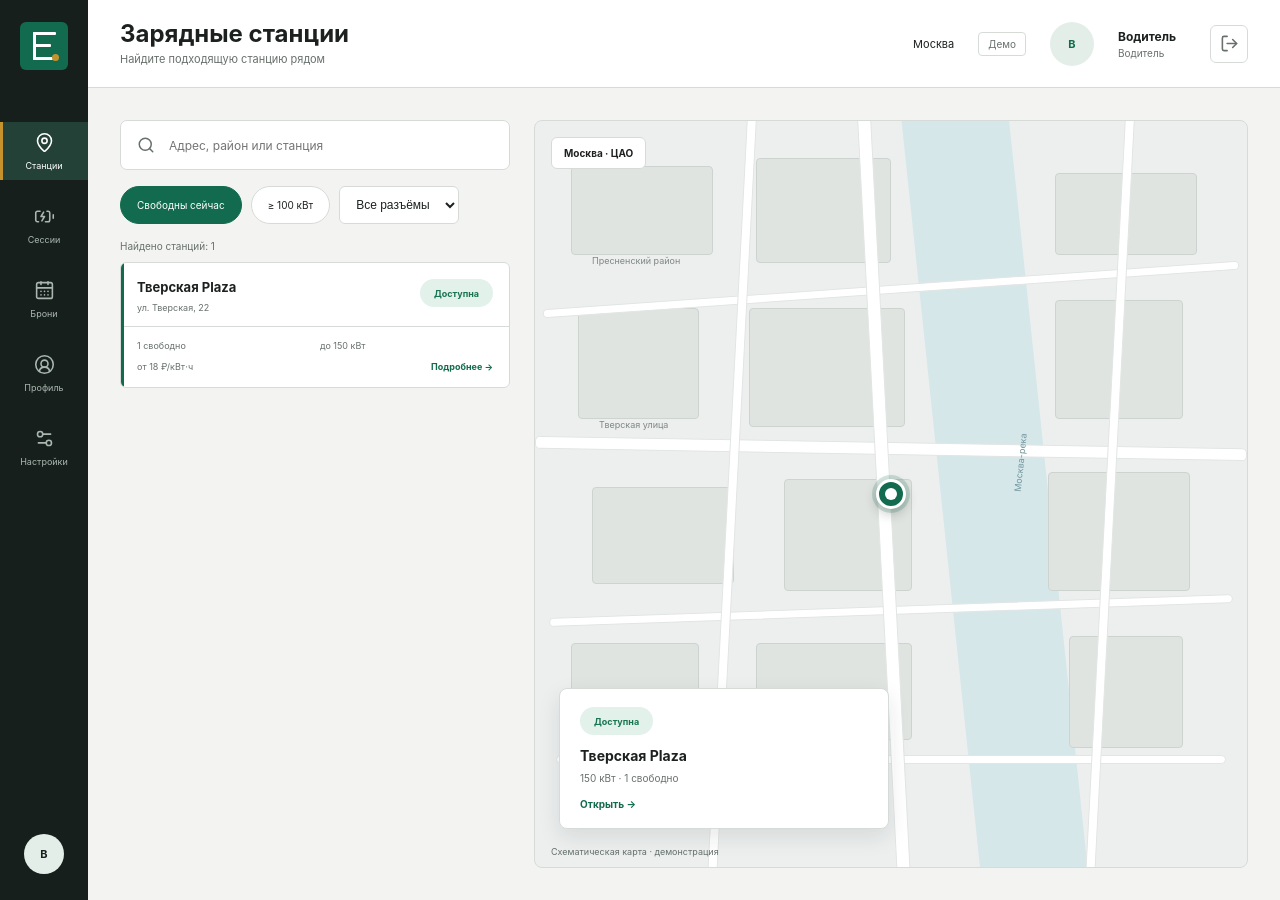
Test: фильтр свободных CCS2 не показывает станцию, где свободен только Type 2
Select "CCS2" in the dropdown named "Тип разъёма" at (399, 205), box [339,186,459,224]
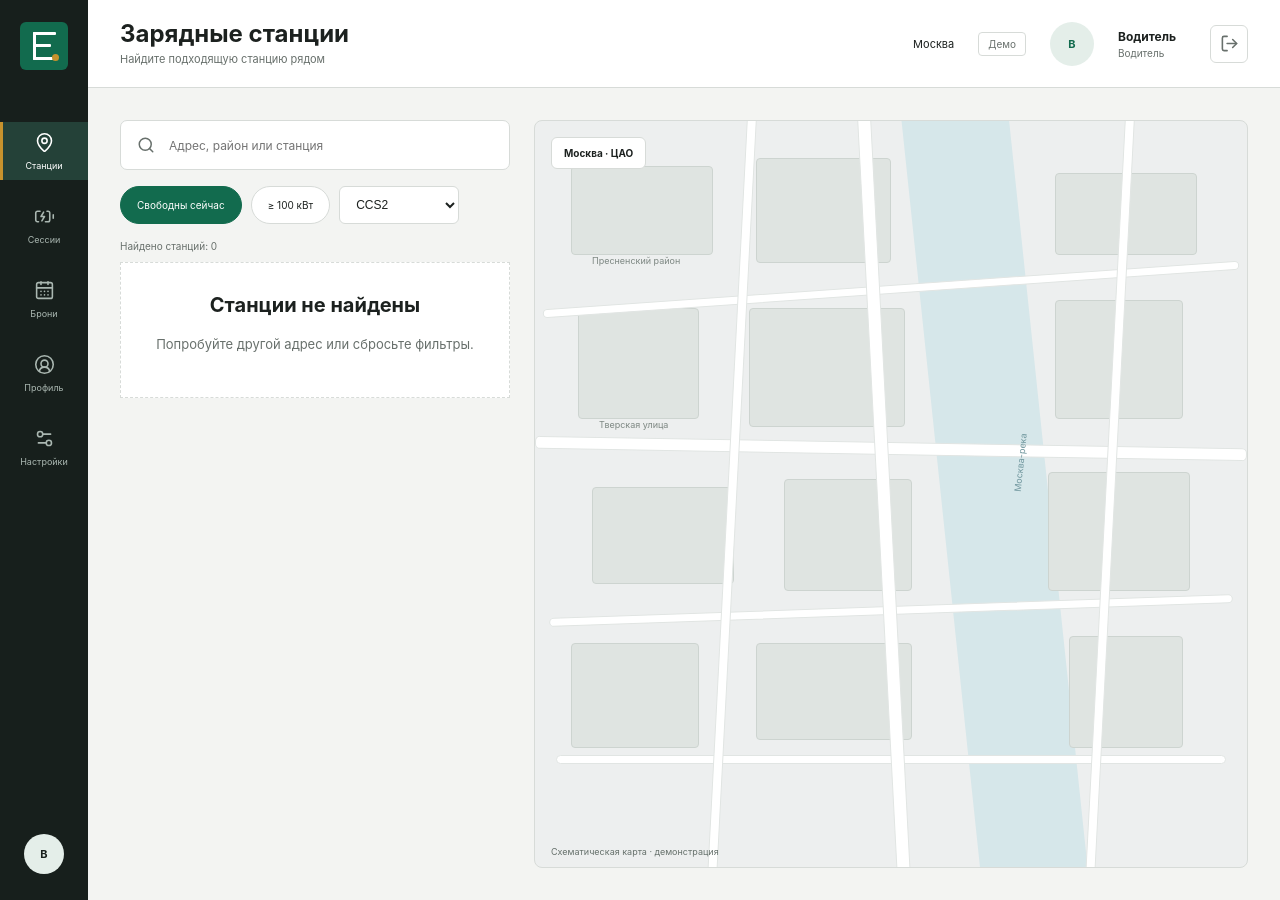
Expected: the text "Найдено станций: 0" is shown, [120,240,217,252]
Expected: the heading "Станции не найдены" is shown, [210,293,420,317]
